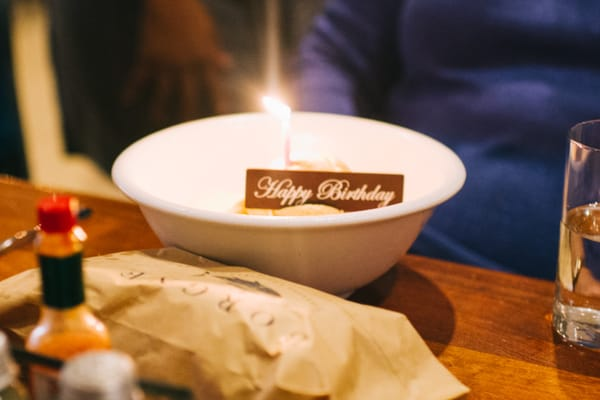pizza: (552, 117, 600, 348)
sushi: (111, 104, 467, 297)
